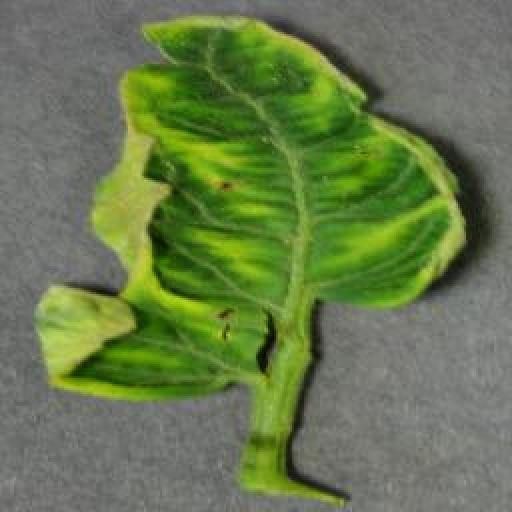disease_tomato: (33, 16, 471, 404)
